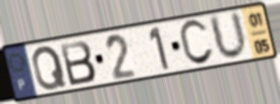1: (148, 25, 173, 72)
2: (104, 31, 140, 81)
B: (58, 39, 98, 88)
C: (177, 18, 216, 68)
Q: (31, 44, 69, 93)
U: (207, 9, 250, 62)
